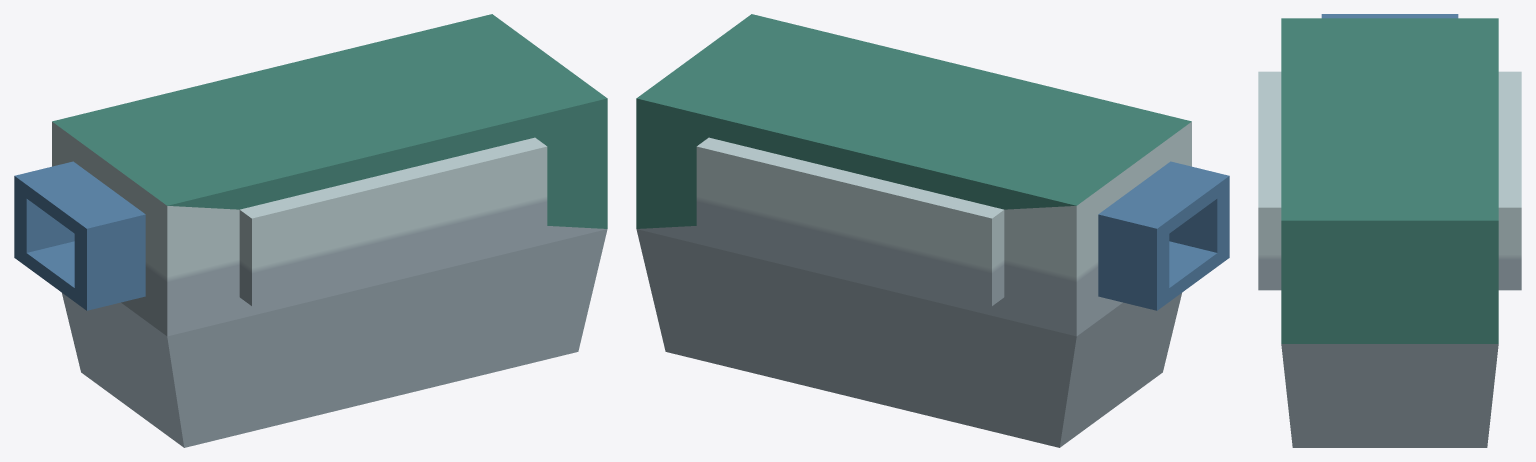
File: ground_shooter.fbx
3 renders of one model, left to right at view 1: azimuth 30°, elevation 25°; view 2: azimuth 150°, elevation 25°; view 3: azimuth 270°, elevation 25°, orthographic. The views are drawn at different scales.
Visible parts, largest first — view 1: GroundShooter; view 2: GroundShooter; view 3: GroundShooter.
Part boxes in pixels (x1,y1,x2,y2): GroundShooter: (14, 14, 607, 447); GroundShooter: (636, 14, 1229, 447); GroundShooter: (1258, 14, 1521, 447).
Size of the model in its own units: 77.23 by 160 by 77.55.
